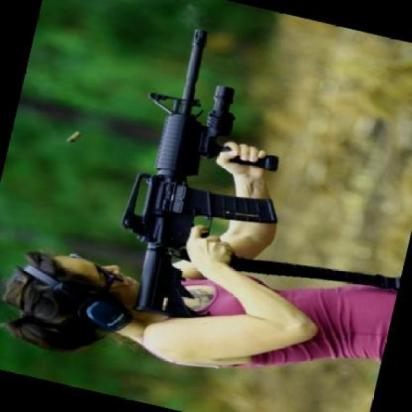Gun: (103, 14, 318, 341)
